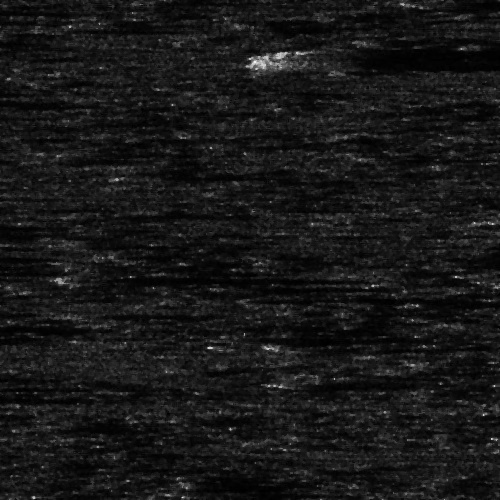object: (80, 167, 163, 182), (0, 24, 81, 33), (269, 50, 310, 65), (73, 310, 126, 315), (471, 231, 500, 240), (74, 275, 115, 280)
shadow: (290, 50, 500, 65), (122, 167, 300, 182), (94, 275, 342, 280), (35, 24, 124, 33), (100, 310, 221, 315), (0, 98, 46, 109), (0, 396, 80, 401), (0, 267, 56, 272)
